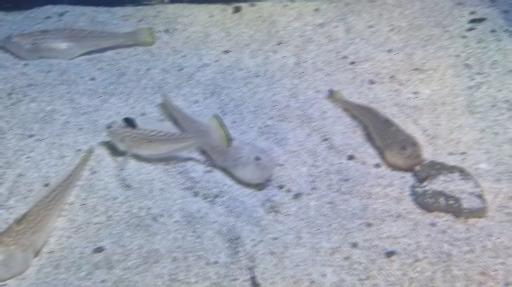Fish: (0, 146, 93, 274), (330, 89, 425, 170), (105, 115, 224, 169), (0, 27, 155, 60), (202, 119, 276, 185), (124, 117, 137, 128), (252, 267, 256, 286)
